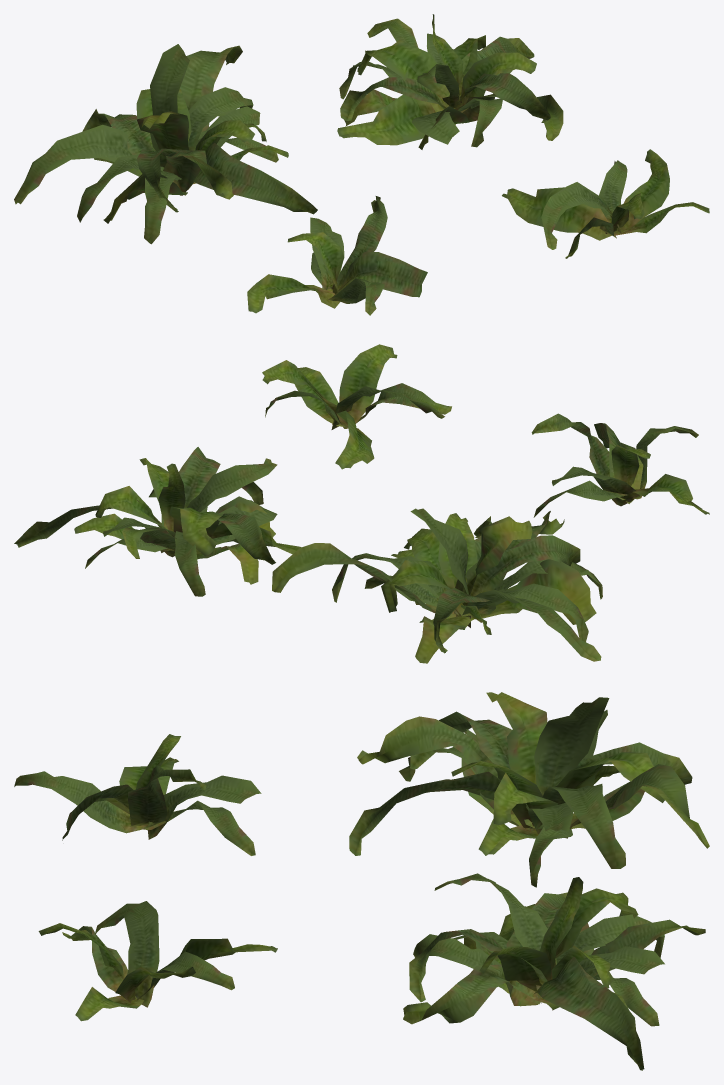
Rendered from fern-02.lite.43384af1.glb.
3 views of the same model, one above another, from view 1: azimuth 30°, elevation 25°; view 2: azimuth 150°, elevation 25°; view 3: azimuth 270°, elevation 25° (orthographic). The views are drawn at different scales.
Parts seen in each view (by area): view 1: model; view 2: model; view 3: model.
Part boxes in pixels (x1,y1,x2,y2): model: (14, 14, 709, 315); model: (14, 344, 709, 663); model: (14, 692, 709, 1070).
Bounding box in the file's own units: 1.97 × 0.4277 × 1.72.
1 material, 1 textured.
